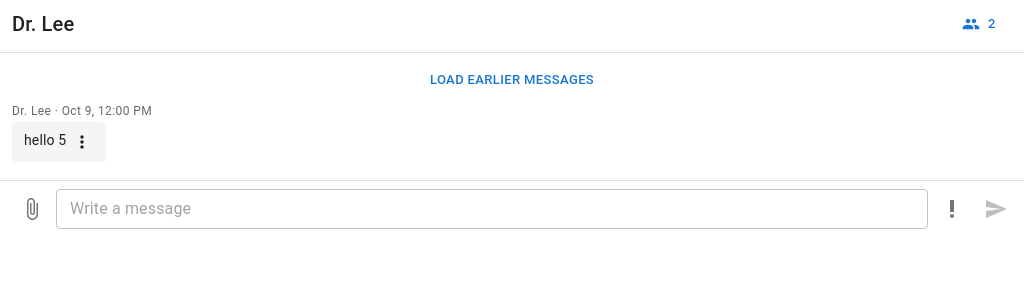
Test: Conversation › loads earlier messages
Expected: the text "hello 5" is shown, [24,130,66,150]
Click the button with test id "load-older" at (512, 80), box [425,65,599,96]
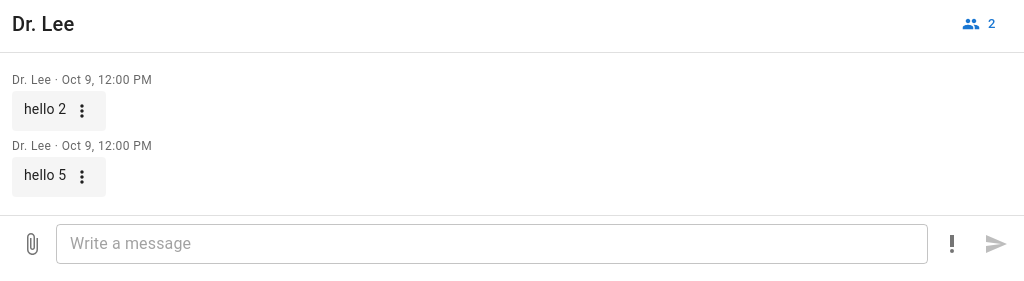
Now the text "hello 2" is shown, box [24,99,66,119]
Now the button with test id "load-older" is gone
